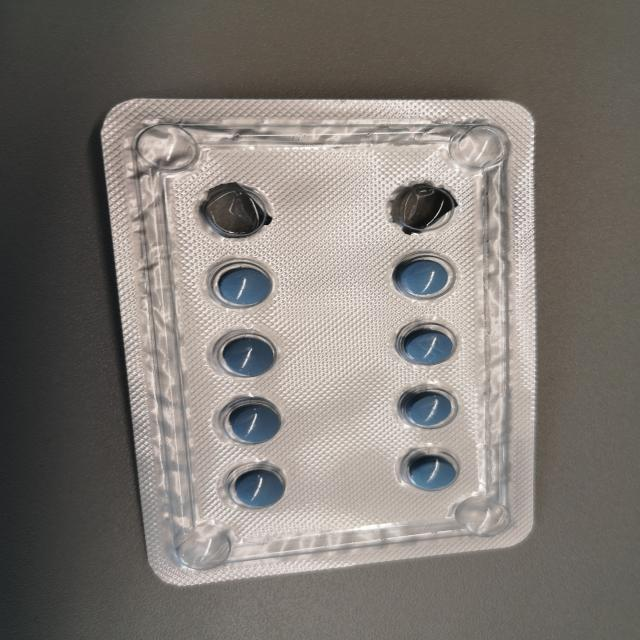Empty: (188, 176, 289, 245), (373, 172, 466, 241)
Pill: (193, 326, 298, 386), (196, 393, 307, 449), (377, 247, 472, 308), (216, 452, 301, 518), (197, 252, 284, 314), (380, 317, 474, 374), (388, 441, 474, 500), (385, 378, 467, 438)
